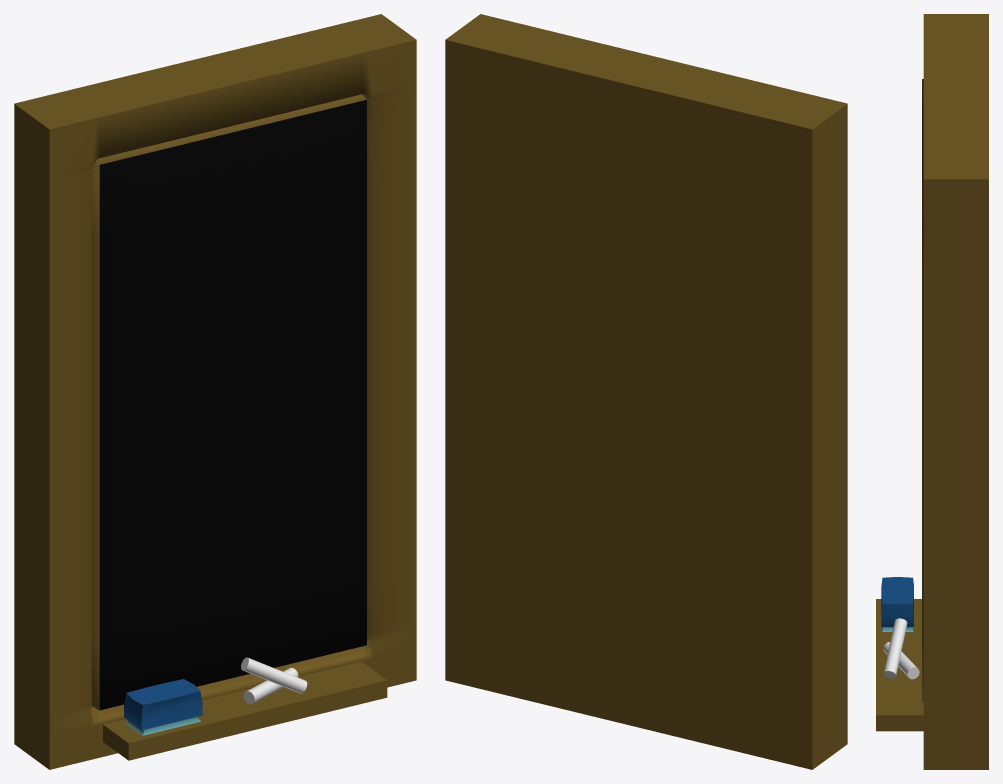
Rendered from Score Board.fbx.
The picture shows the model from 3 angles, left to right: view 1: azimuth 30°, elevation 25°; view 2: azimuth 150°, elevation 25°; view 3: azimuth 270°, elevation 25°; orthographic projection. The views are drawn at different scales.
Visible parts, largest first — view 1: pCube1, pCube2, pCylinder2; view 2: pCube1; view 3: pCube1, pCube2, pCylinder2, pCylinder1.
Part boxes in pixels (bbox=[...]): pCube1: bbox=[14, 14, 416, 769]; pCube2: bbox=[124, 679, 202, 735]; pCylinder2: bbox=[241, 657, 307, 693]; pCube1: bbox=[445, 14, 847, 769]; pCube1: bbox=[876, 14, 988, 769]; pCube2: bbox=[881, 577, 913, 631]; pCylinder2: bbox=[883, 618, 907, 678]; pCylinder1: bbox=[883, 642, 919, 679].
Size of the model in its own units: 6 by 10 by 1.73.
